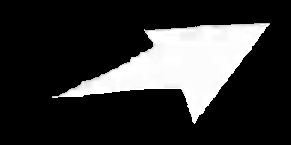Plane: (41, 12, 279, 128)
